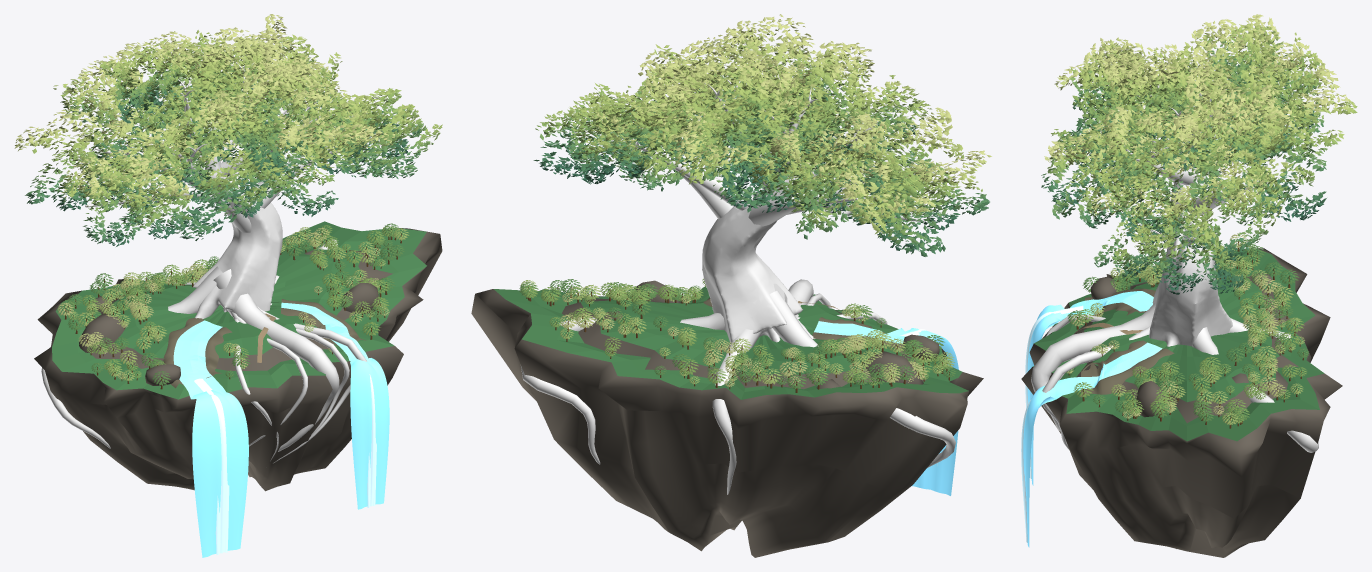
The model's file is 生命樹庭園.glb.
3 views of the same model, side by side, from view 1: azimuth 30°, elevation 25°; view 2: azimuth 150°, elevation 25°; view 3: azimuth 270°, elevation 25° (orthographic). The views are drawn at different scales.
Parts seen in each view (by area): view 1: 浮島_中央生命島, 林地_葉冠, 瀑布_中央左, 葉群網格_前景葉簇_02, 葉群網格_前景葉簇_06, 葉群網格_後景葉簇_01, 主幹, 葉群網格_前景葉簇_04, 葉群網格_前景葉簇_05, 瀑布_中央右, 葉群網格_前景葉簇_01, 葉群網格_後景葉簇_05 (+23 smaller); view 2: 浮島_中央生命島, 林地_葉冠, 主幹, 葉群網格_後景葉簇_05, 葉群網格_後景葉簇_01, 葉群網格_後景葉簇_02, 葉群網格_後景葉簇_06, 葉群網格_後景葉簇_08, 葉群網格_後景葉簇_04, 葉群網格_前景葉簇_06, 葉群網格_前景葉簇_05, 葉群網格_後景葉簇_03 (+16 smaller); view 3: 浮島_中央生命島, 林地_葉冠, 葉群網格_後景葉簇_03, 葉群網格_後景葉簇_04, 葉群網格_前景葉簇_04, 葉群網格_前景葉簇_03, 主幹, 葉群網格_後景葉簇_06, 葉群網格_後景葉簇_05, 葉群網格_前景葉簇_06, 葉群網格_前景葉簇_07, 葉群網格_後景葉簇_07 (+18 smaller).
Boxes of the visible parts, x1,y1,x2,y2 form: 浮島_中央生命島: (34, 221, 442, 491); 林地_葉冠: (57, 223, 409, 389); 瀑布_中央左: (183, 376, 248, 557); 葉群網格_前景葉簇_02: (101, 129, 269, 240); 葉群網格_前景葉簇_06: (153, 41, 305, 163); 葉群網格_後景葉簇_01: (14, 106, 163, 211); 主幹: (193, 130, 282, 318); 葉群網格_前景葉簇_04: (250, 95, 411, 195); 葉群網格_前景葉簇_05: (143, 81, 269, 201); 瀑布_中央右: (337, 341, 389, 509); 葉群網格_前景葉簇_01: (61, 149, 190, 246); 葉群網格_後景葉簇_05: (100, 39, 241, 123); 浮島_中央生命島: (471, 286, 983, 557); 林地_葉冠: (519, 278, 956, 392); 主幹: (702, 145, 815, 342); 葉群網格_後景葉簇_05: (686, 53, 852, 195); 葉群網格_後景葉簇_01: (785, 151, 951, 256); 葉群網格_後景葉簇_02: (739, 117, 890, 215); 葉群網格_後景葉簇_06: (638, 37, 800, 186); 葉群網格_後景葉簇_08: (640, 108, 804, 212); 葉群網格_後景葉簇_04: (568, 62, 724, 184); 葉群網格_前景葉簇_06: (721, 14, 869, 164); 葉群網格_前景葉簇_05: (760, 36, 931, 188); 葉群網格_後景葉簇_03: (533, 95, 702, 191); 浮島_中央生命島: (1021, 247, 1342, 557); 林地_葉冠: (1066, 233, 1309, 428); 葉群網格_後景葉簇_03: (1156, 143, 1286, 293); 葉群網格_後景葉簇_04: (1177, 102, 1326, 221); 葉群網格_前景葉簇_04: (1044, 124, 1183, 247); 葉群網格_前景葉簇_03: (1089, 177, 1213, 294); 主幹: (1149, 141, 1232, 346); 葉群網格_後景葉簇_06: (1153, 53, 1308, 161); 葉群網格_後景葉簇_05: (1179, 21, 1323, 135); 葉群網格_前景葉簇_06: (1072, 47, 1218, 137); 葉群網格_前景葉簇_07: (1074, 94, 1211, 188); 葉群網格_後景葉簇_07: (1145, 84, 1284, 188).
Bounding box in the file's own units: 10.93 × 11.31 × 6.97.
